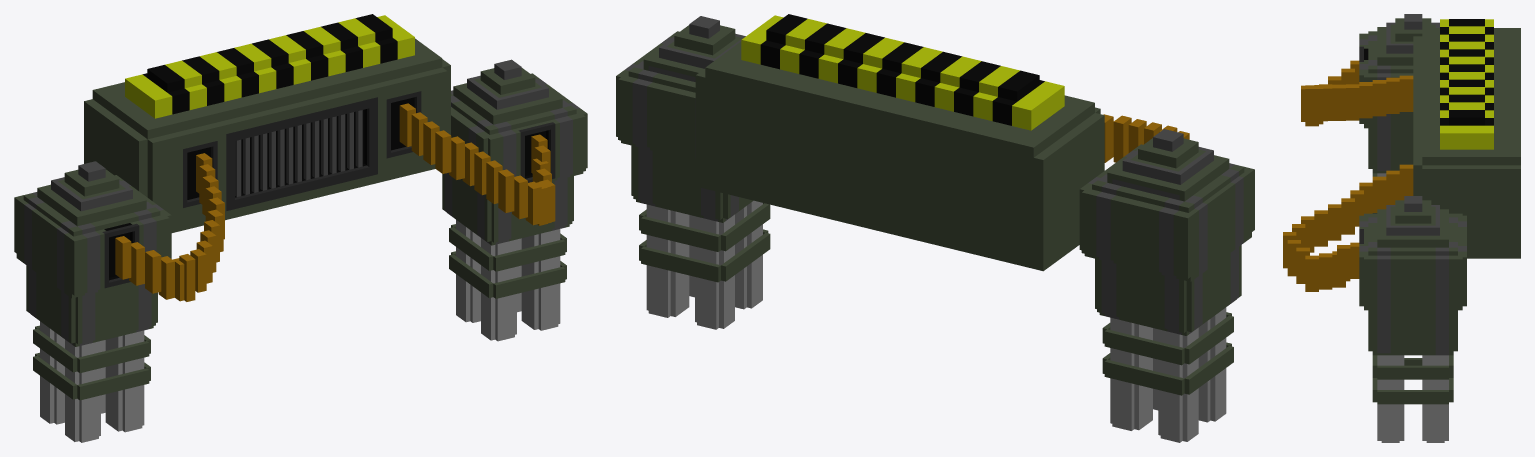
Rendered from MachineGunJetPack.obj.
3 renders of one model, left to right at view 1: azimuth 30°, elevation 25°; view 2: azimuth 150°, elevation 25°; view 3: azimuth 270°, elevation 25°, orthographic. The views are drawn at different scales.
Size of the model in its own units: 11.9 by 6.6 by 5.3.
1 material, 1 textured.
